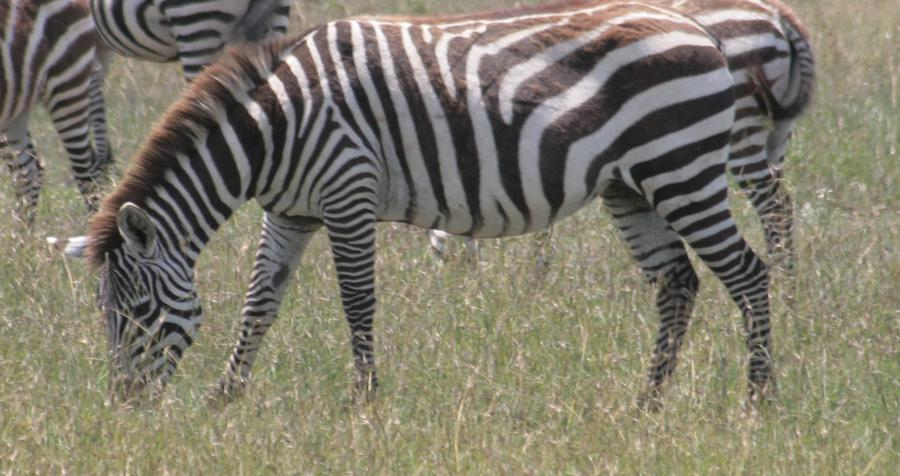zebra_plains: (268, 10, 761, 256)
